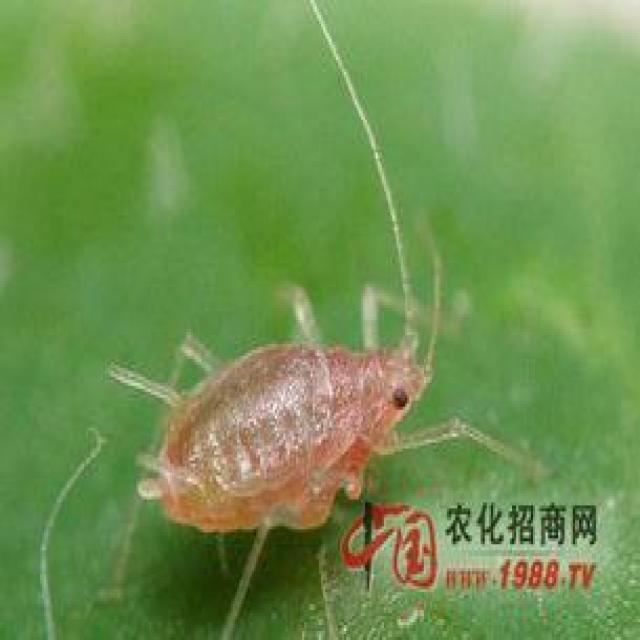Aphids: (47, 22, 551, 506)
